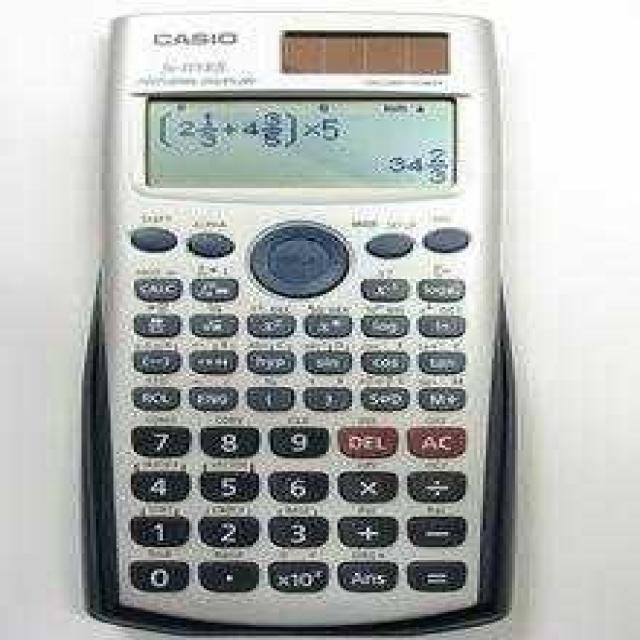Calculator: (79, 7, 512, 636)
